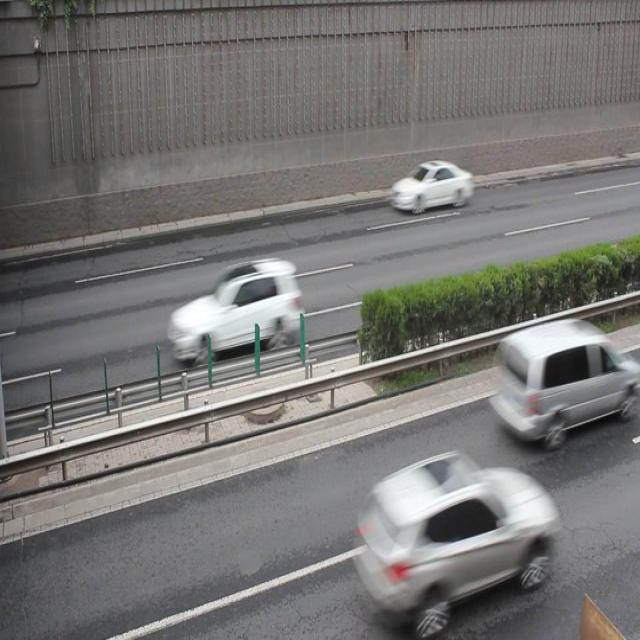car: (356, 448, 551, 622), (166, 256, 302, 359), (388, 157, 471, 213)
truck: (488, 316, 628, 447)
